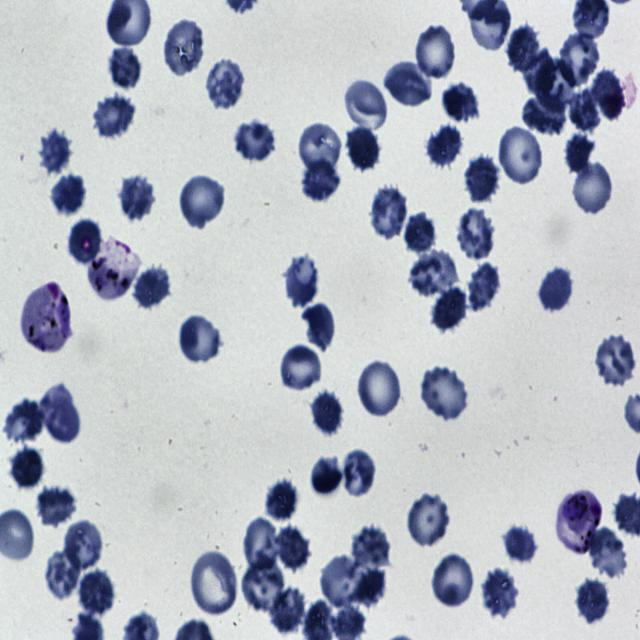difficult: (555, 487, 603, 556)
red blood cell: (190, 550, 239, 619), (418, 363, 470, 423), (497, 124, 545, 186), (356, 358, 404, 419), (239, 556, 287, 614), (162, 16, 206, 78), (179, 172, 227, 228), (413, 21, 458, 80), (406, 490, 451, 548), (407, 252, 459, 301), (318, 555, 367, 607), (593, 332, 640, 386), (432, 553, 476, 609), (299, 120, 343, 176), (344, 78, 389, 132), (40, 384, 80, 444), (572, 159, 614, 216), (384, 61, 432, 110), (533, 58, 576, 112), (556, 32, 598, 87), (369, 184, 409, 241), (92, 90, 137, 140), (178, 314, 222, 364), (480, 565, 520, 620), (280, 344, 323, 395), (243, 518, 281, 573), (284, 252, 320, 310), (64, 521, 104, 573), (522, 94, 567, 140), (266, 587, 309, 635), (205, 59, 246, 109), (430, 283, 471, 333), (339, 447, 378, 499), (348, 522, 392, 568), (129, 261, 172, 308), (234, 117, 277, 164), (424, 122, 465, 171), (455, 208, 495, 258), (588, 529, 626, 580), (299, 157, 342, 202), (78, 566, 115, 618), (9, 444, 47, 492), (506, 24, 544, 72), (47, 171, 87, 216), (45, 550, 81, 600), (346, 123, 380, 174), (465, 155, 501, 203), (2, 399, 44, 440), (540, 265, 575, 314), (592, 70, 626, 120), (309, 389, 345, 436), (441, 84, 481, 126), (275, 526, 310, 574), (119, 174, 155, 220), (467, 263, 501, 311), (35, 486, 77, 524), (263, 476, 298, 521), (524, 46, 556, 95), (38, 128, 72, 174), (104, 46, 141, 88), (303, 303, 335, 351), (569, 87, 602, 133), (68, 220, 101, 265), (576, 578, 608, 623), (404, 210, 436, 254), (564, 132, 597, 173), (311, 454, 343, 496), (353, 566, 386, 606), (504, 524, 536, 564)
trophozoite: (22, 283, 72, 355), (86, 240, 140, 302)
